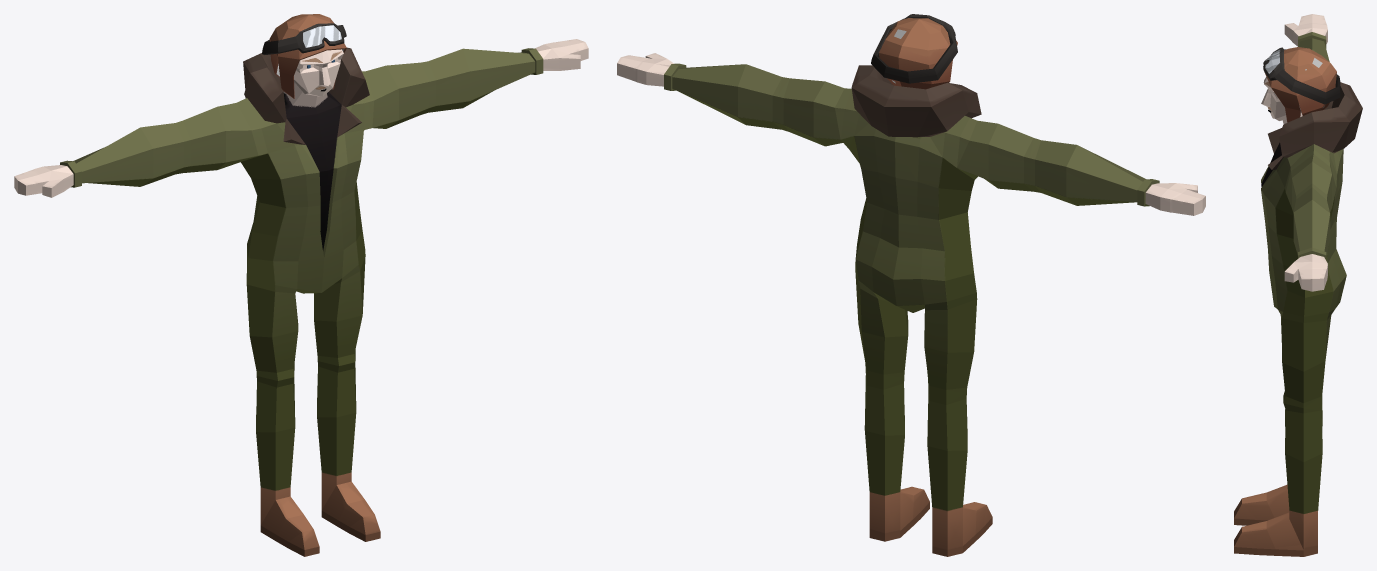
The model's file is Chrlies.fbx.
3 views of the same model, side by side, from view 1: azimuth 30°, elevation 25°; view 2: azimuth 150°, elevation 25°; view 3: azimuth 270°, elevation 25° (orthographic). The views are drawn at different scales.
Visible parts, largest first — view 1: pCube8; view 2: pCube8; view 3: pCube8.
Boxes of the visible parts, x1,y1,x2,y2 form: pCube8: (14,14,588,556); pCube8: (617,14,1205,556); pCube8: (1234,14,1362,556).
Bounding box in the file's own units: 209 × 179 × 43.05.
Materials: 1 (1 with a texture image).
